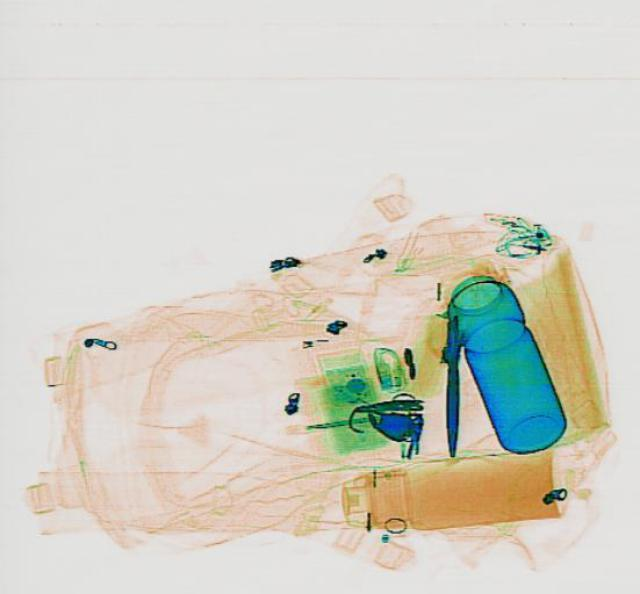Knife: (440, 314, 460, 455)
